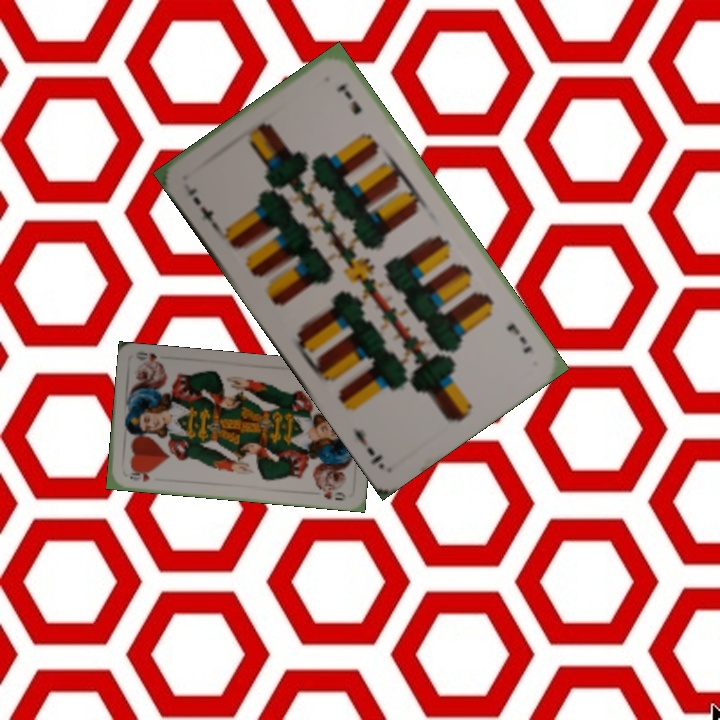E7: (183, 183, 221, 232), (502, 319, 535, 356)
HO: (124, 467, 152, 484)
